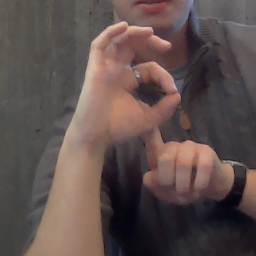Q: (71, 19, 226, 208)
